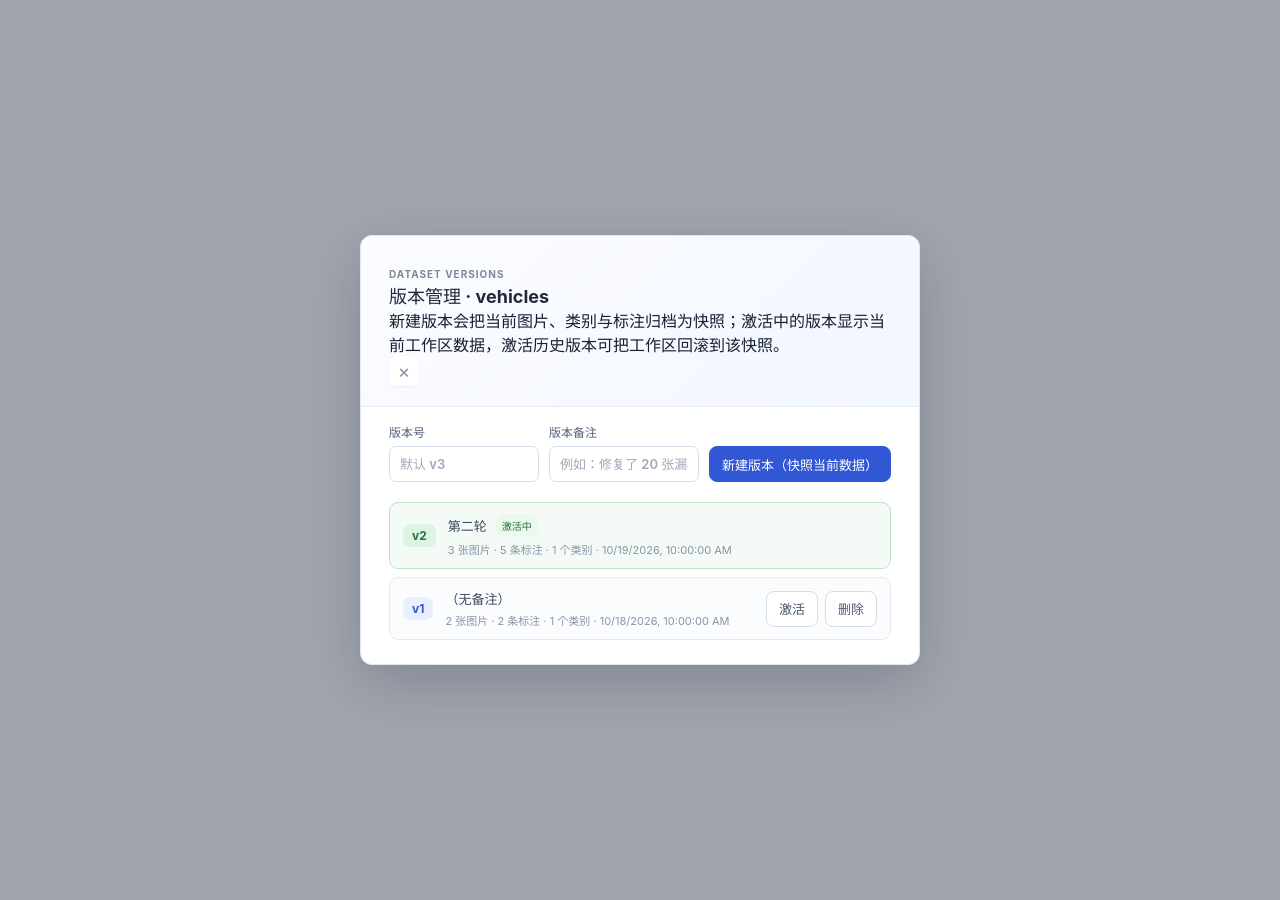
it: DatasetVersionDialog › activates a version directly when the workspace matches the snapshot
Click the button "激活".
click(792, 608)  # box [766,590,818,626]
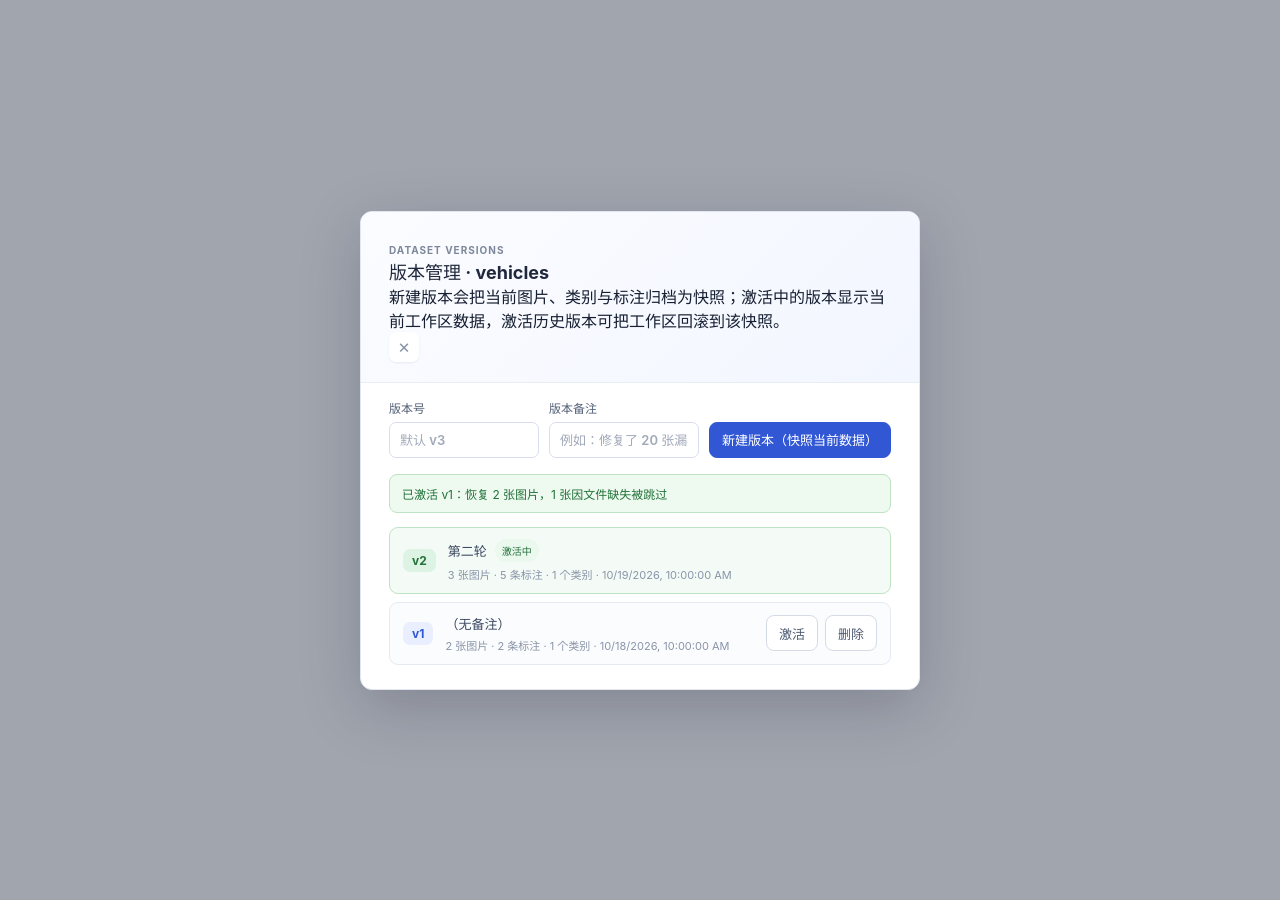
Expected: the text "已激活 v1：恢复 2 张图片，1 张因文件缺失被跳过" is shown, [389,474,891,512]
